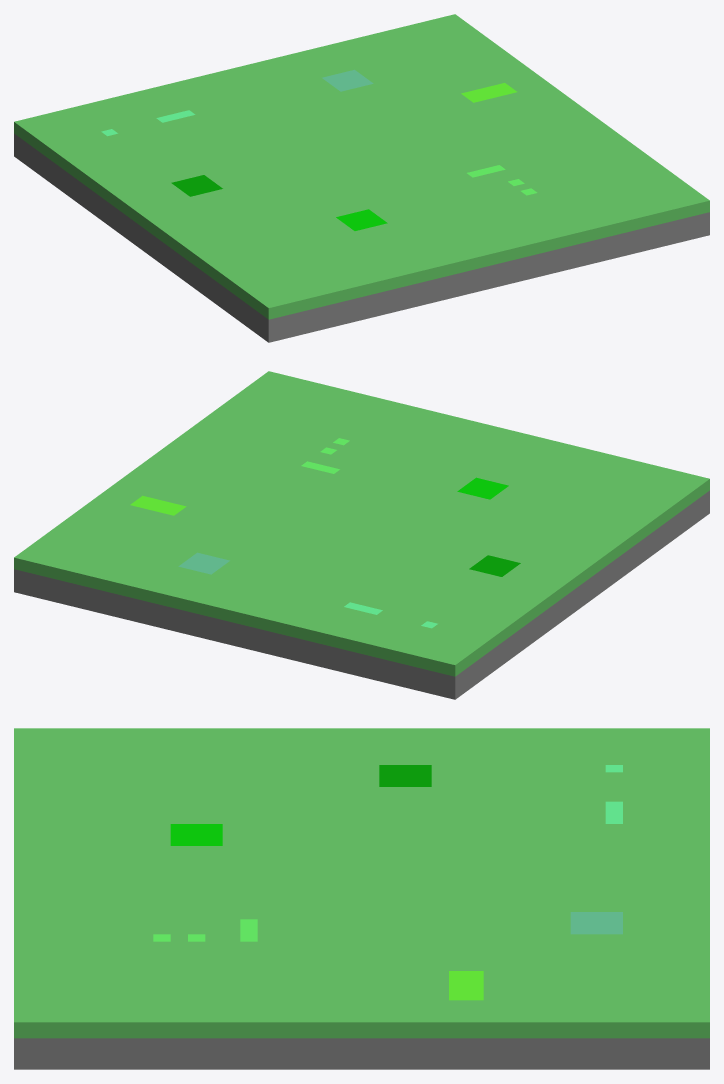
The model's file is Park middle.obj.
The picture shows the model from 3 angles, top to bottom: view 1: azimuth 30°, elevation 25°; view 2: azimuth 150°, elevation 25°; view 3: azimuth 270°, elevation 25°; orthographic projection. The views are drawn at different scales.
Bounding box in the file's own units: 4 × 0.3 × 4.
Materials: 1 (1 with a texture image).
